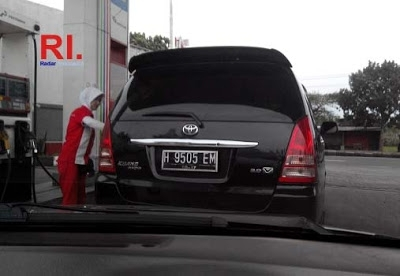plate: (162, 149, 218, 173)
